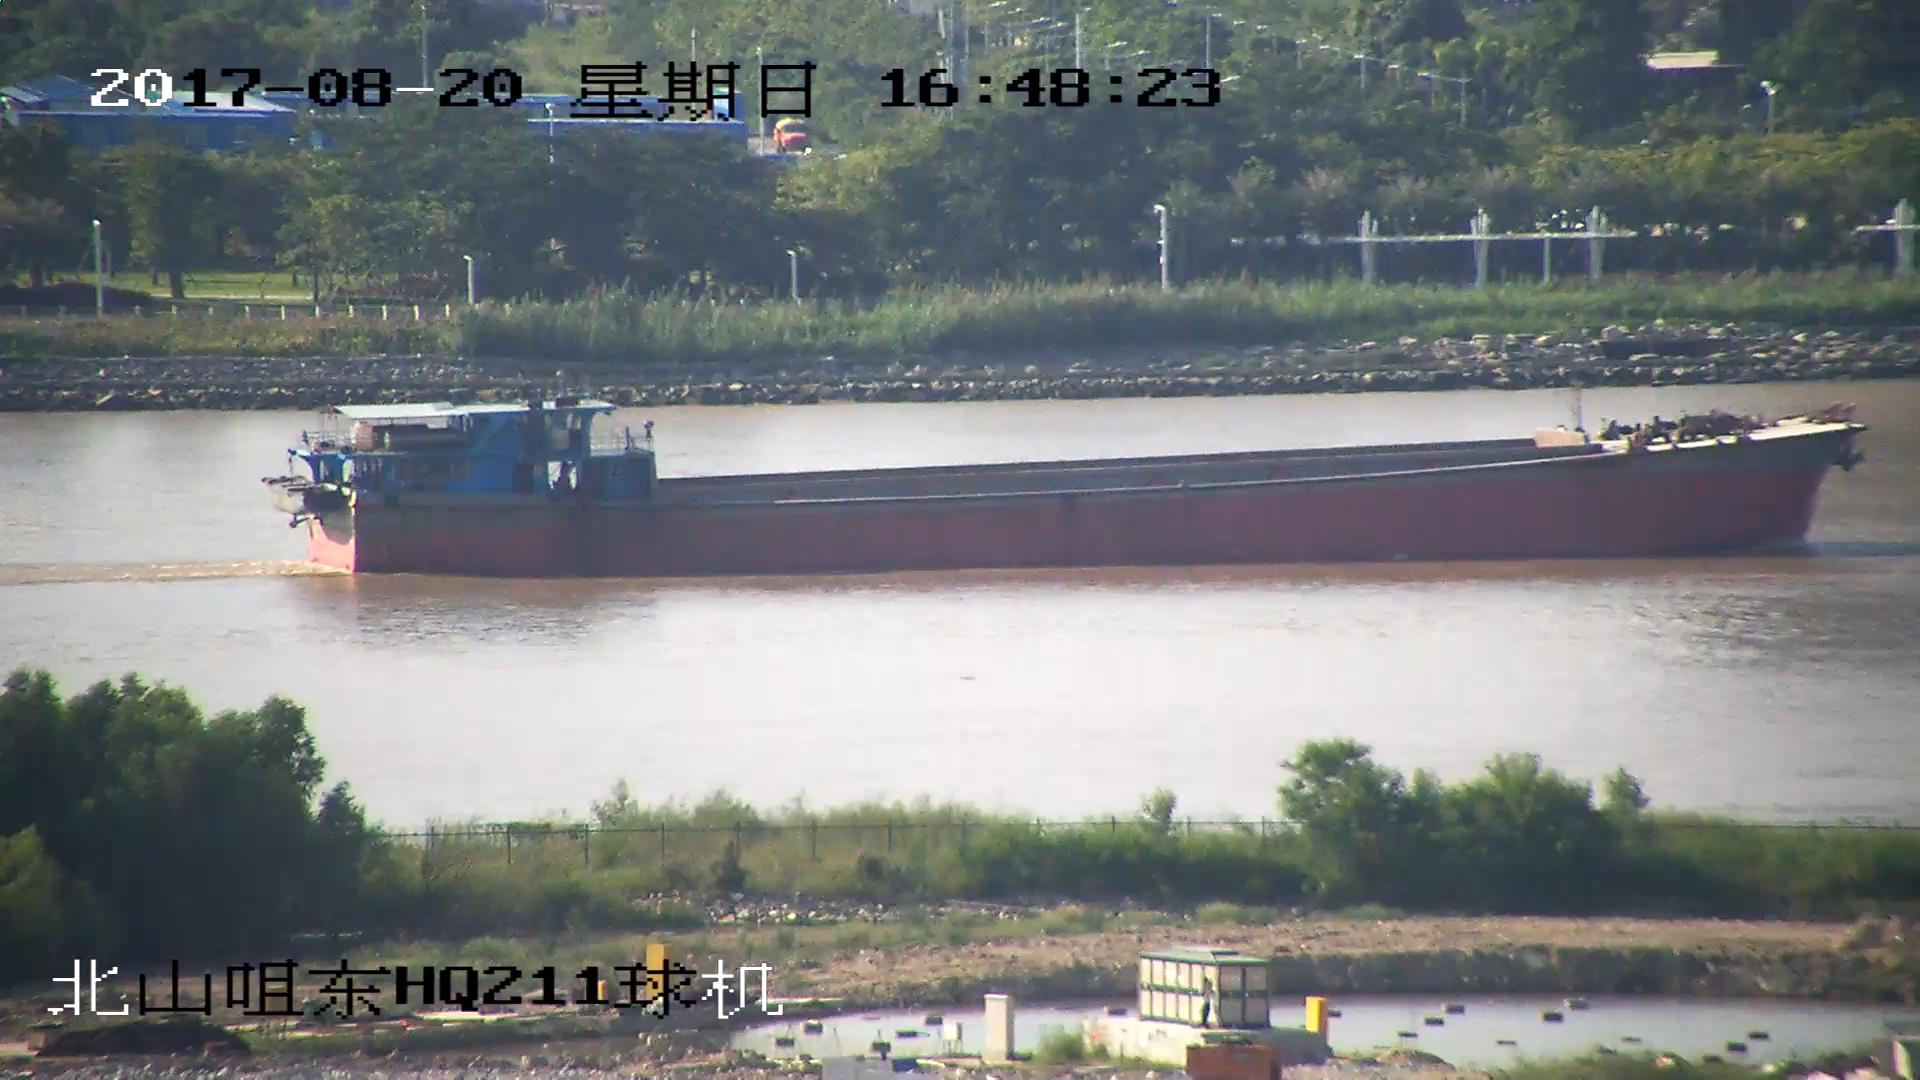bulk cargo carrier: (270, 399, 1868, 575)
